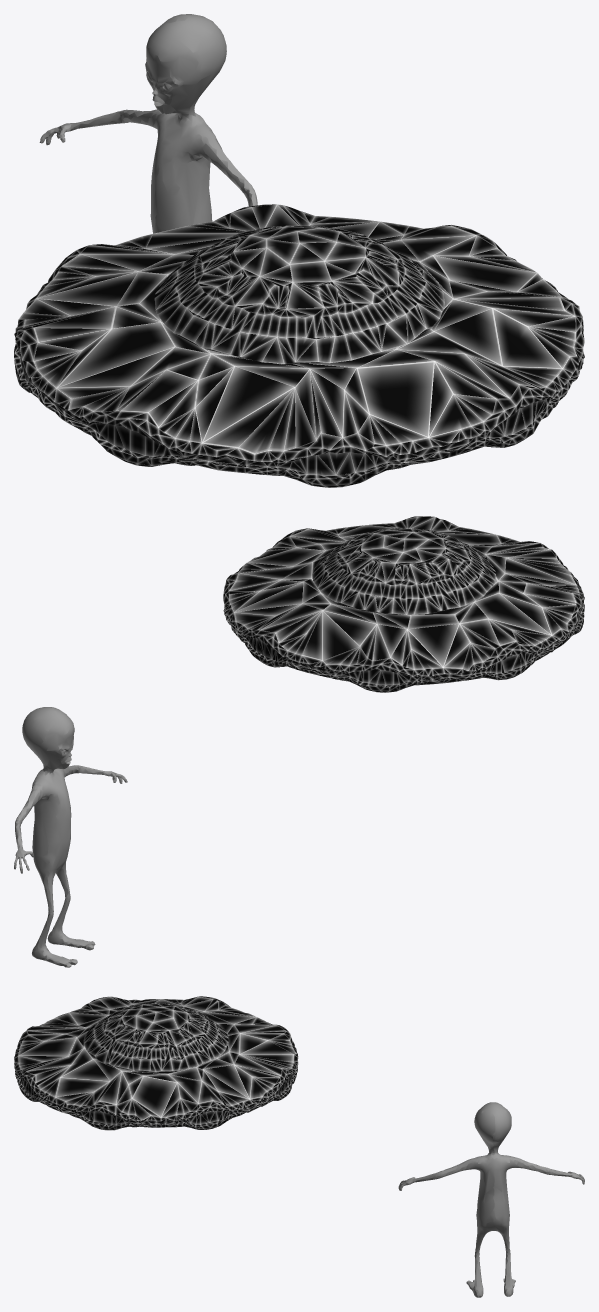
File: frame_061.obj
3 views of the same model, one above another, from view 1: azimuth 30°, elevation 25°; view 2: azimuth 150°, elevation 25°; view 3: azimuth 270°, elevation 25° (orthographic). The views are drawn at different scales.
Visible parts, largest first — view 1: 13884_UFO_Saucer_v1_l2, 10469_GrayAlien_v01; view 2: 13884_UFO_Saucer_v1_l2, 10469_GrayAlien_v01; view 3: 13884_UFO_Saucer_v1_l2, 10469_GrayAlien_v01.
Part boxes in pixels (bbox=[...]): 13884_UFO_Saucer_v1_l2: bbox=[14, 204, 584, 487]; 10469_GrayAlien_v01: bbox=[39, 14, 257, 233]; 13884_UFO_Saucer_v1_l2: bbox=[223, 516, 584, 692]; 10469_GrayAlien_v01: bbox=[14, 707, 127, 967]; 13884_UFO_Saucer_v1_l2: bbox=[14, 996, 298, 1130]; 10469_GrayAlien_v01: bbox=[398, 1102, 584, 1297].
Bounding box in the file's own units: 13.09 × 11.26 × 25.48.
